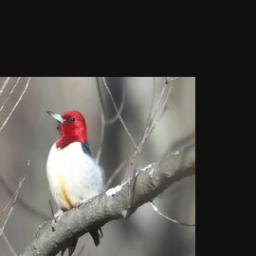Woodpecker: (43, 109, 107, 256)
